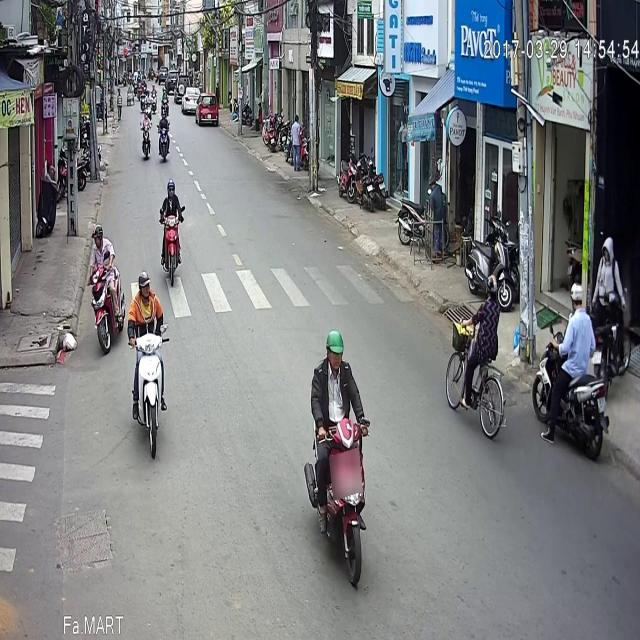bicycle: (445, 212, 507, 388)
car: (194, 34, 218, 69)
motorcycle: (304, 271, 372, 530), (533, 224, 611, 401), (127, 213, 167, 399), (88, 170, 124, 296), (158, 120, 186, 228), (156, 51, 170, 104), (139, 52, 152, 102)
